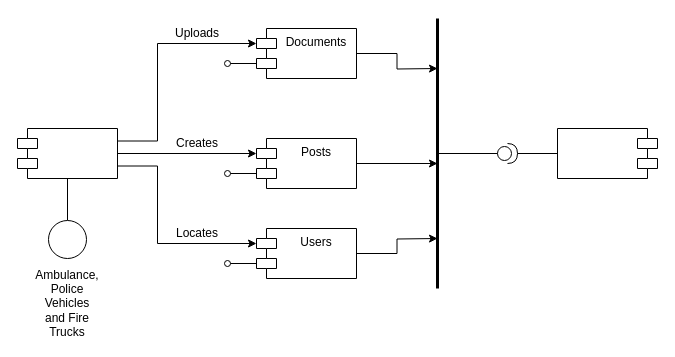
The diagram is 675 pixels wide and 357 high, and some of its shapes have lost their labels. The centre of each missing label's shape, as x and y in pixels:
Database: point 607,153
Rapid Reach: point 67,153
